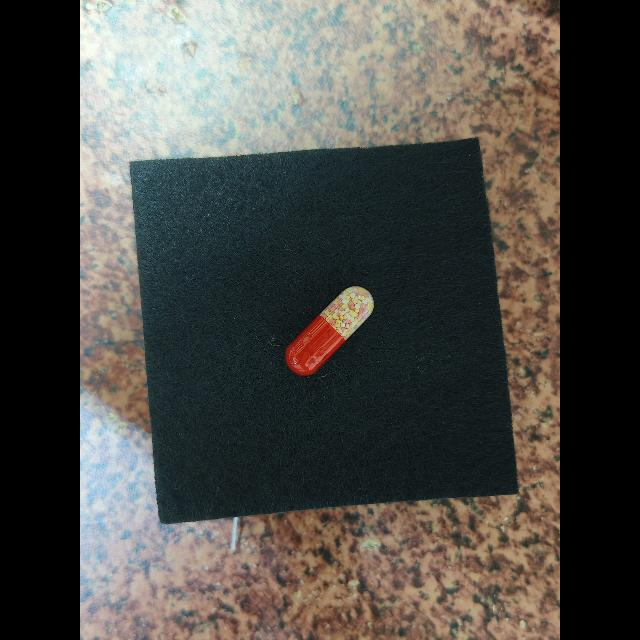Intact Capsule: (285, 286, 374, 375)
